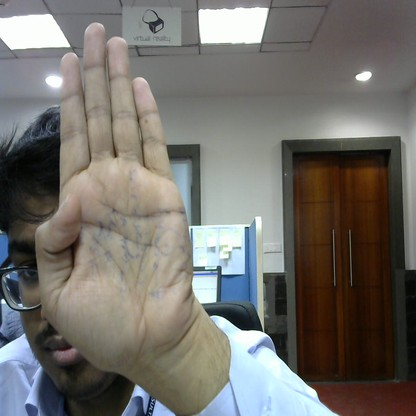b: (35, 14, 203, 379)
